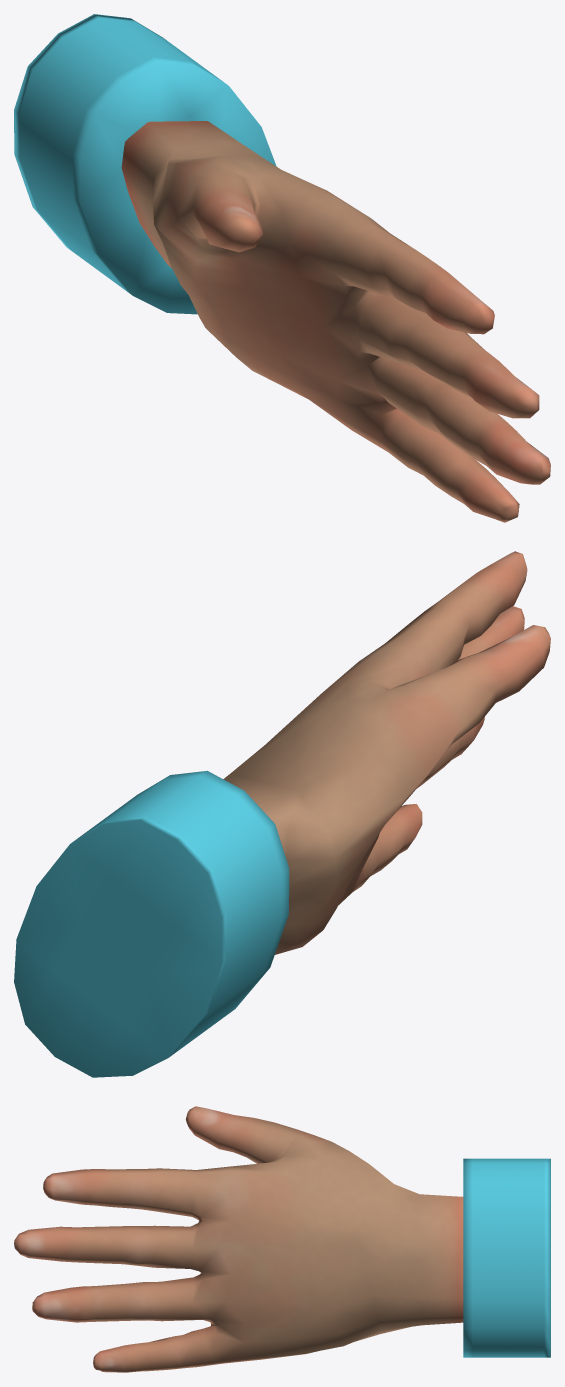
The model's file is left-hand.glb.
3 views of the same model, one above another, from view 1: azimuth 30°, elevation 25°; view 2: azimuth 150°, elevation 25°; view 3: azimuth 270°, elevation 25° (orthographic). The views are drawn at different scales.
Parts seen in each view (by area): view 1: handL_low, handShirtL_low; view 2: handShirtL_low, handL_low; view 3: handL_low, handShirtL_low.
Part boxes in pixels (x1,y1,x2,y2): handL_low: (121,121,550,522); handShirtL_low: (14,14,276,314); handShirtL_low: (14,770,289,1077); handL_low: (223,551,550,954); handL_low: (14,1106,463,1372); handShirtL_low: (463,1158,550,1357).
Size of the model in its own units: 0.1096 by 0.1222 by 0.2932.
Materials: 2 (2 with a texture image).
